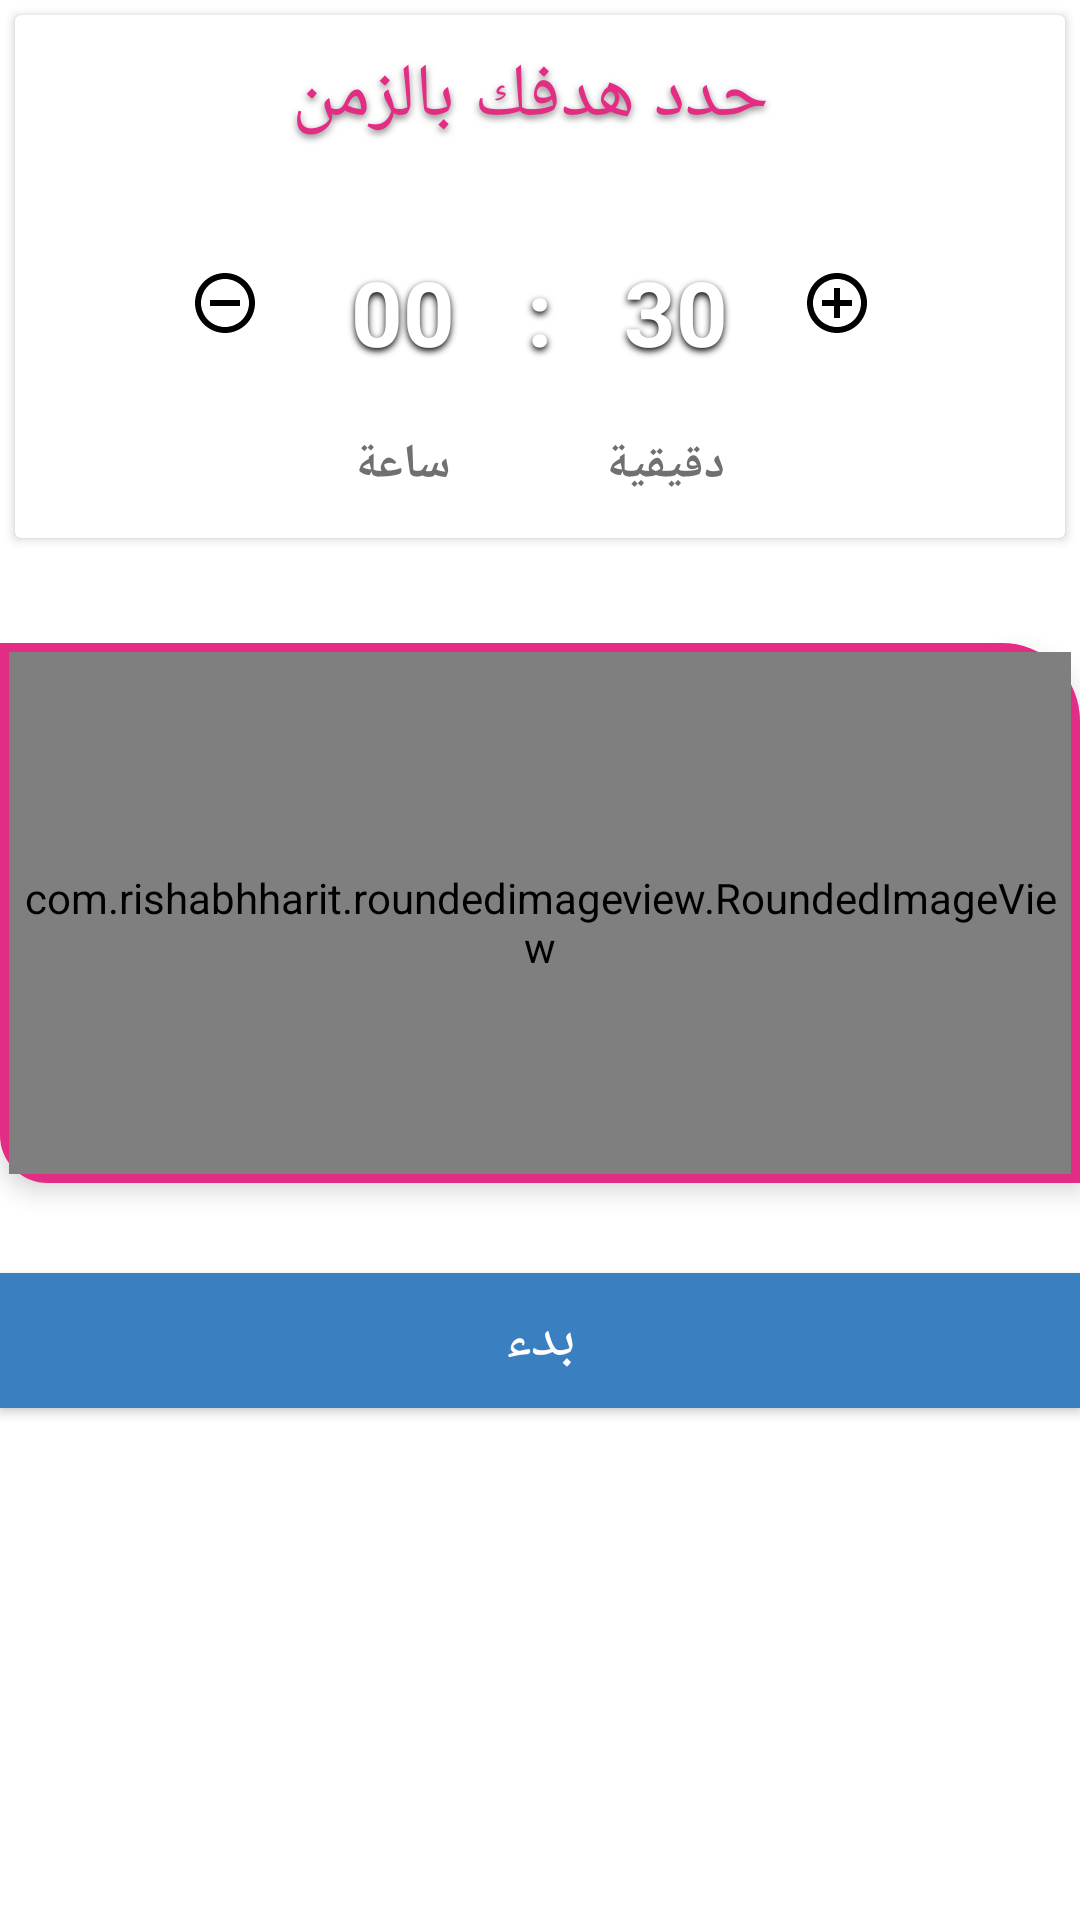

Icons on this 1080px×1920px Android screen, each with its box as (x1, y1, x2, y2):
add: (807, 273, 867, 333)
minus: (195, 273, 255, 333)
